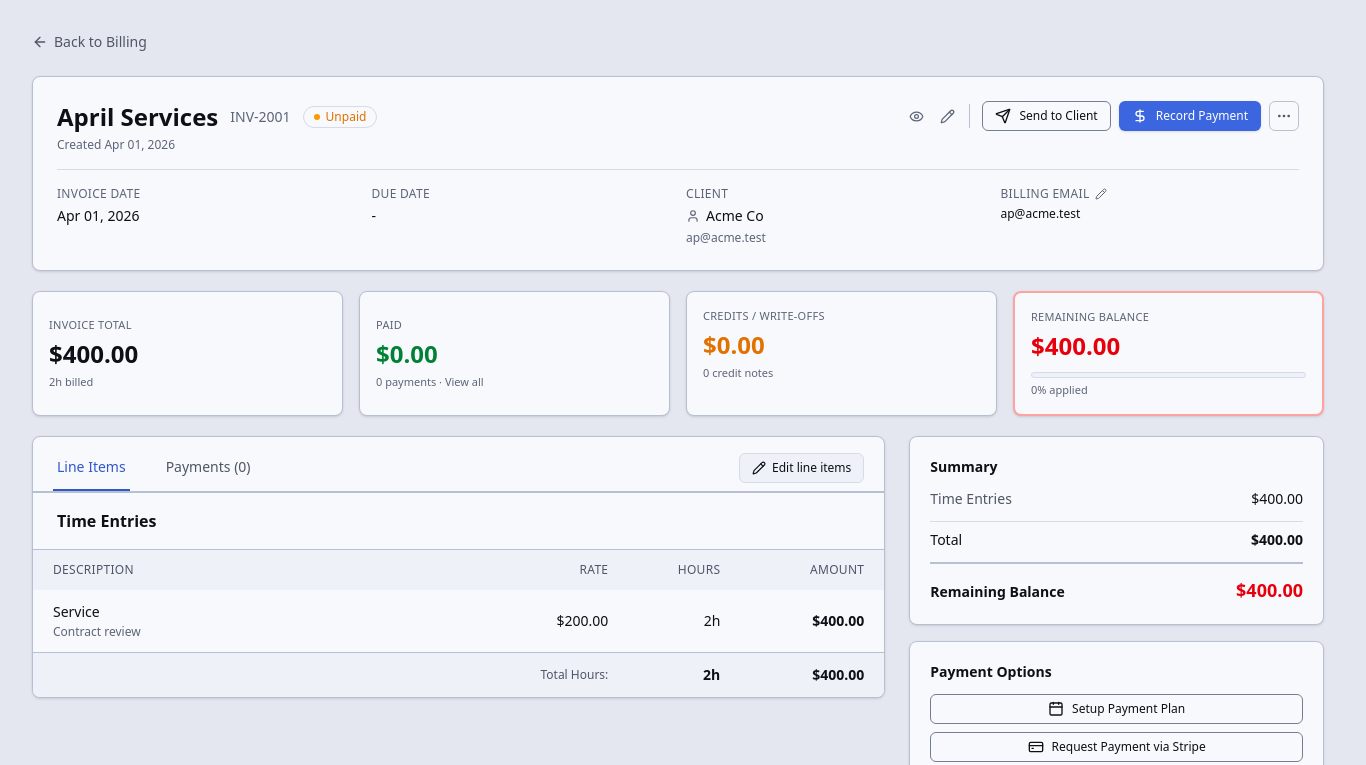
confirming the void › shows the backend refusal and leaves the invoice as it was on a 409
Click the button named "More actions".
click(1284, 116)  # box [1269, 101, 1299, 131]
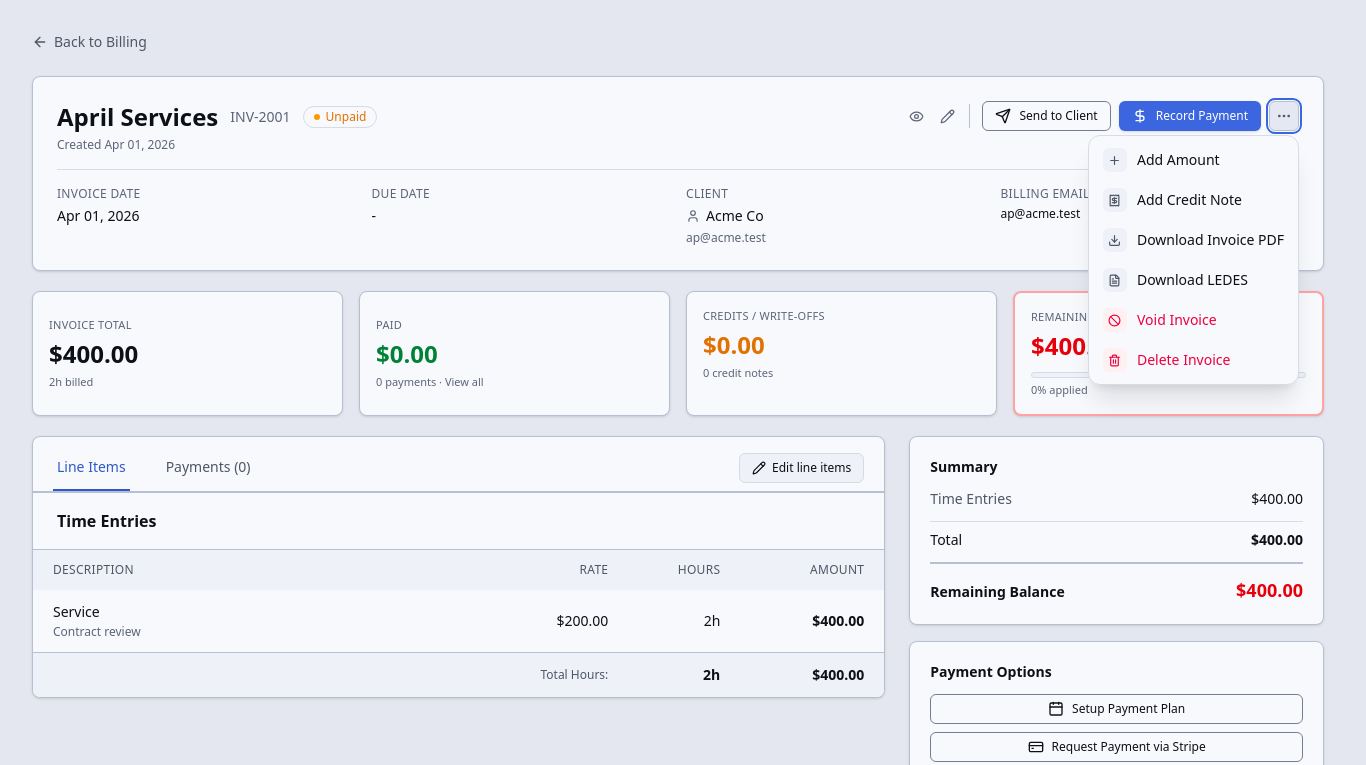
Click the button "Void Invoice".
click(1193, 320)  # box [1093, 300, 1294, 340]
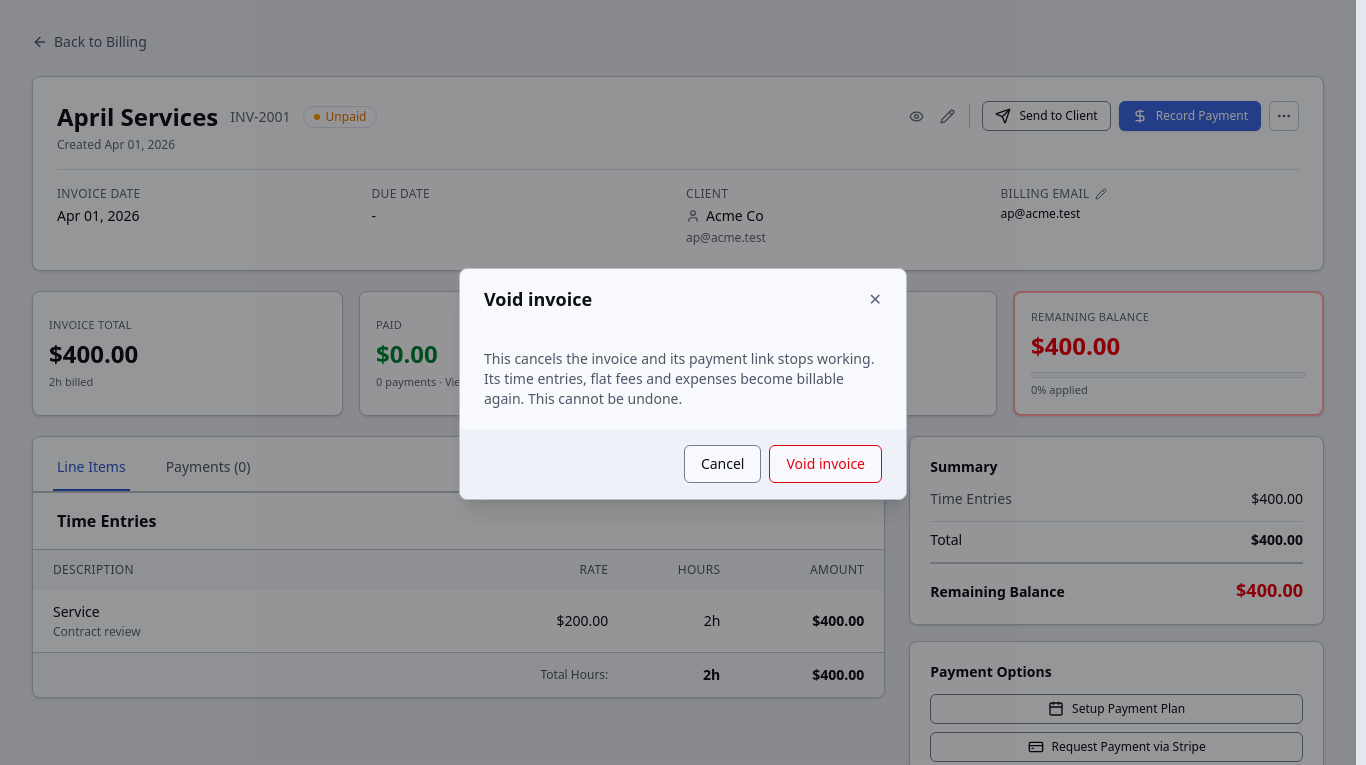
Click the button "Void invoice".
click(826, 464)  # box [770, 445, 882, 483]
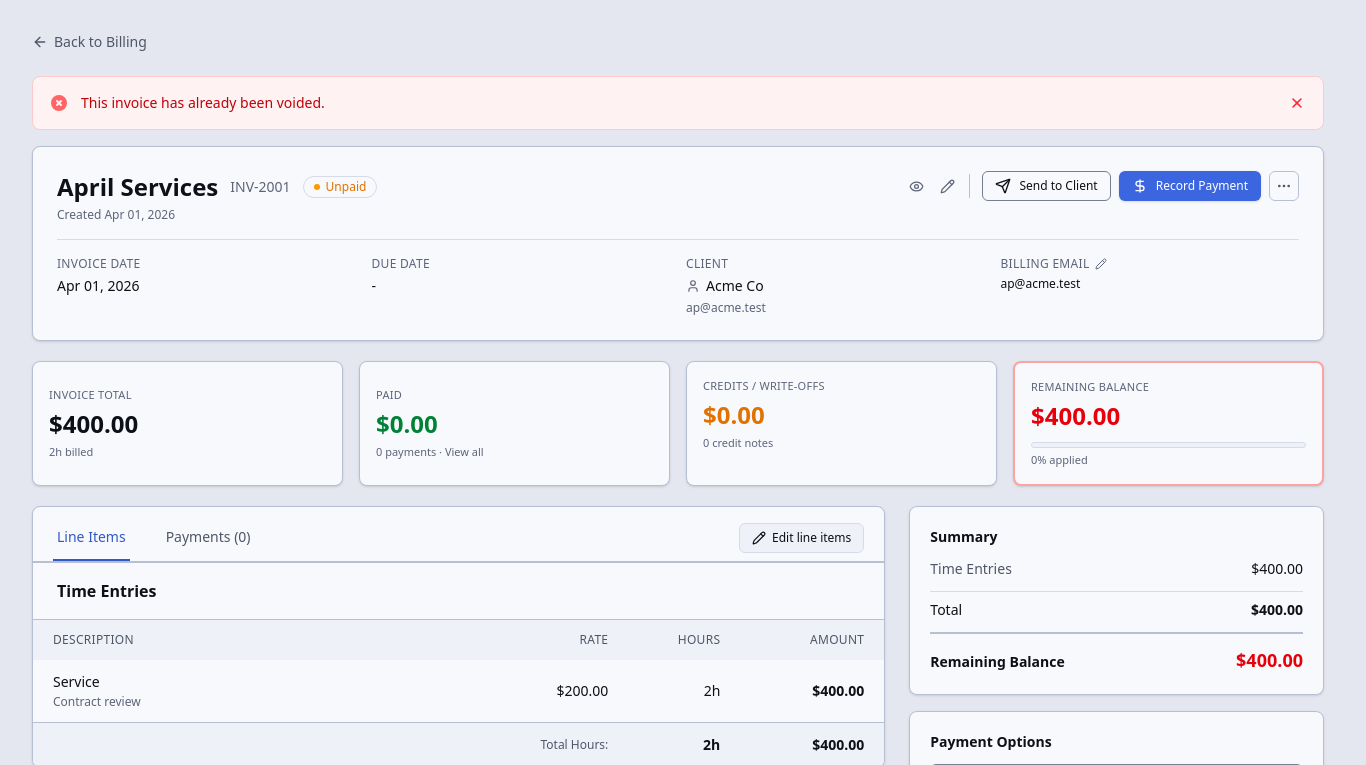
Expected: the heading "April Services" is shown, [57, 171, 218, 203]
Result: the text "This invoice has already been voided." is shown at [81, 93, 325, 112]
